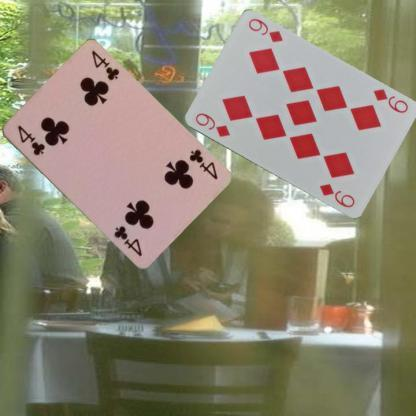4c: (186, 146, 219, 181), (14, 123, 46, 157)
9d: (192, 110, 232, 139), (370, 86, 408, 115)
